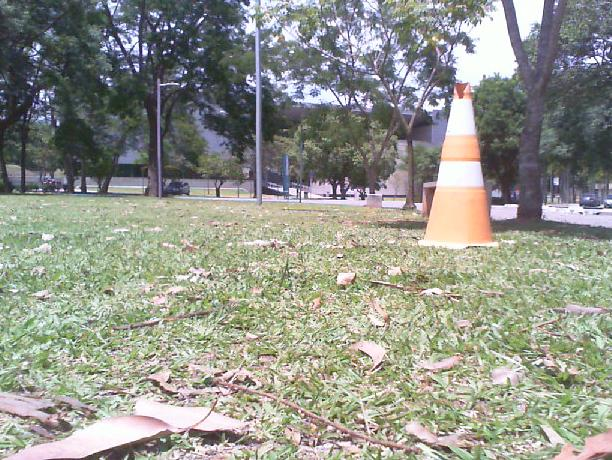0 cone: (418, 83, 498, 247)
